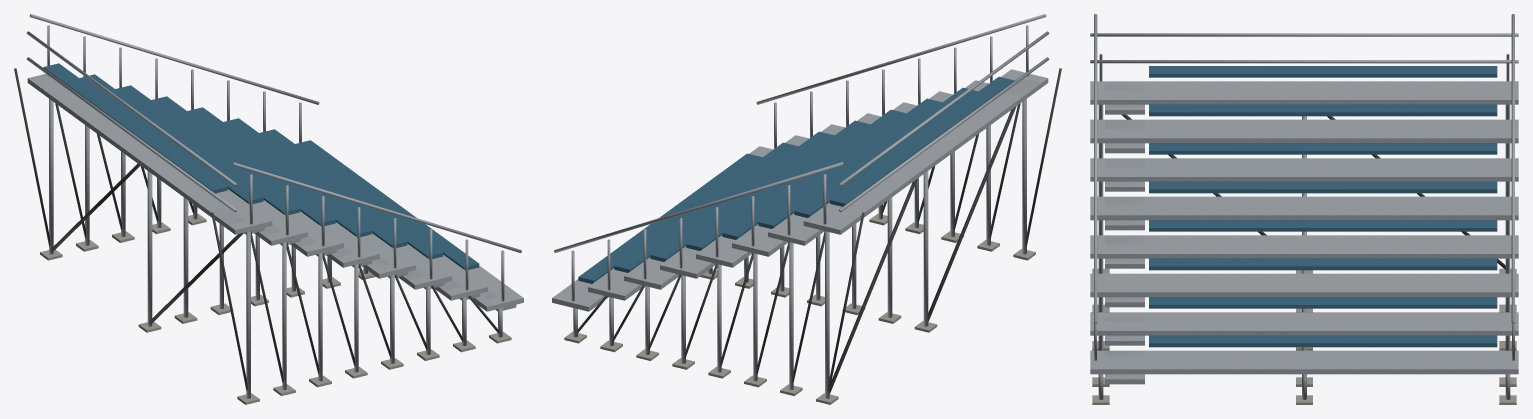
Rendered from temporary-grandstand_high.glb.
3 renders of one model, left to right at view 1: azimuth 30°, elevation 25°; view 2: azimuth 150°, elevation 25°; view 3: azimuth 270°, elevation 25°, orthographic. The views are drawn at different scales.
Visible parts, largest first — view 1: galvanised, seat, dark-steel, concrete; view 2: galvanised, seat, dark-steel, concrete; view 3: galvanised, seat, concrete, dark-steel.
Part boxes in pixels (x1=…): galvanised: x1=26, y1=14, x2=523, y2=398; seat: x1=43, y1=63, x2=479, y2=270; dark-steel: x1=14, y1=68, x2=499, y2=391; concrete: x1=40, y1=213, x2=511, y2=404; galvanised: x1=552, y1=14, x2=1049, y2=398; seat: x1=578, y1=76, x2=1014, y2=283; dark-steel: x1=576, y1=68, x2=1061, y2=393; concrete: x1=564, y1=213, x2=1035, y2=404; galvanised: x1=1090, y1=14, x2=1518, y2=399; seat: x1=1149, y1=66, x2=1497, y2=347; concrete: x1=1092, y1=268, x2=1516, y2=404; dark-steel: x1=1099, y1=54, x2=1509, y2=350.
Bounding box in the file's own units: 6.84 × 5.19 × 8.
Materials: 4 (3 with a texture image).
